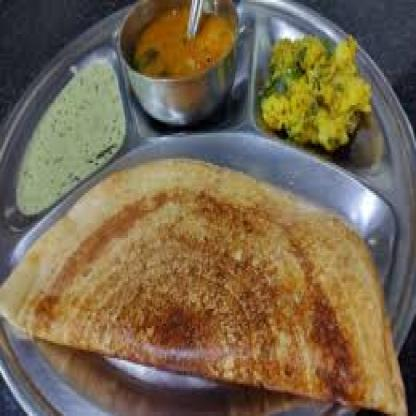dosa: (0, 160, 406, 416)
